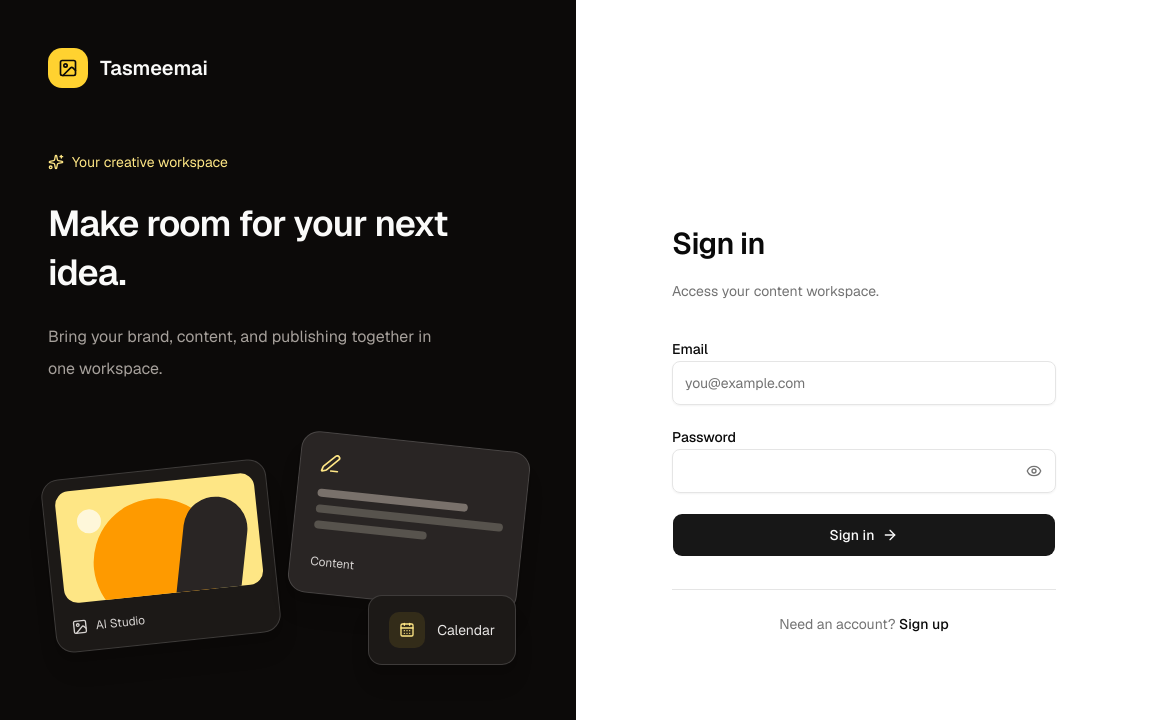
Test: auth page behavior › uses accessible password controls and authored failures in en
Type "person@example.com" into the field labelled "Email" at (864, 383), box [672, 361, 1056, 405]
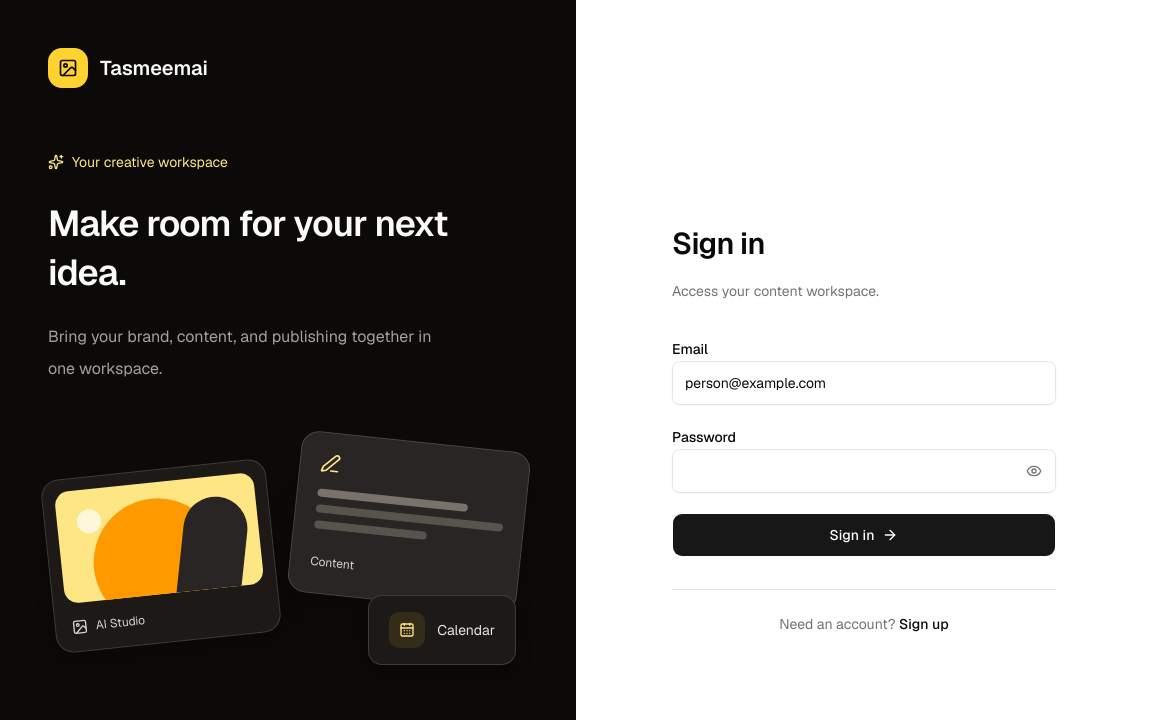
Type "a-test-password" into the password field labelled "Password" at (864, 471), box [672, 449, 1056, 493]
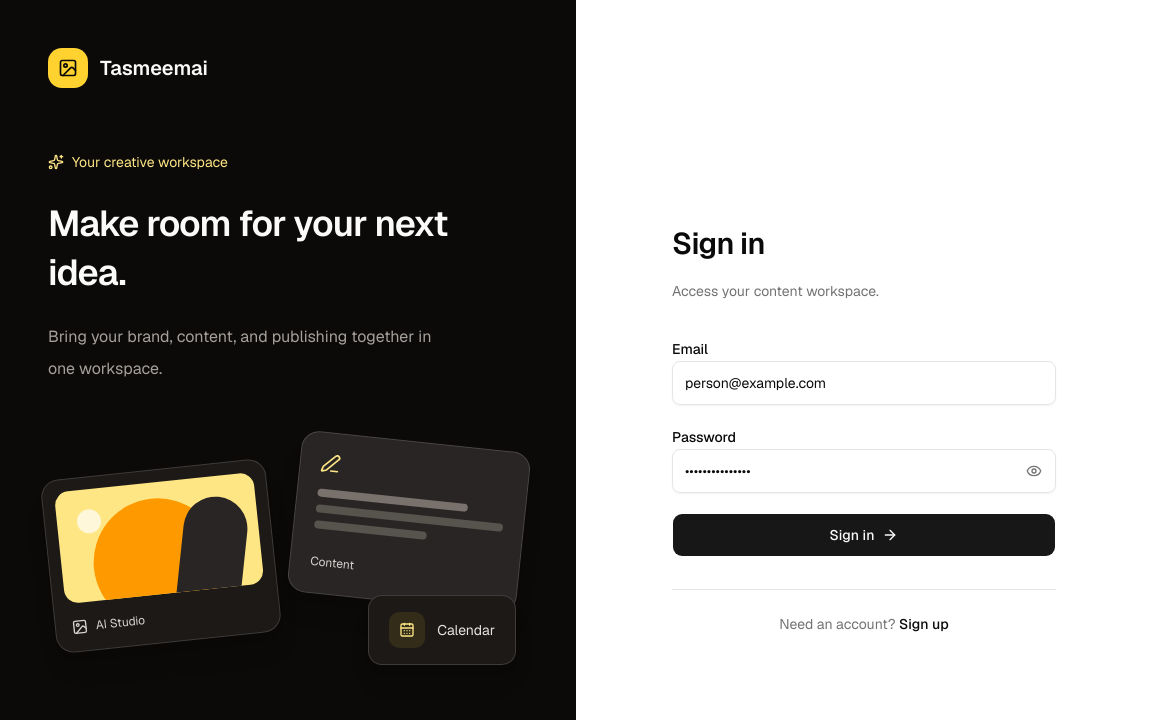
Click the button named "Show password" at (1034, 471), box [1018, 455, 1050, 487]
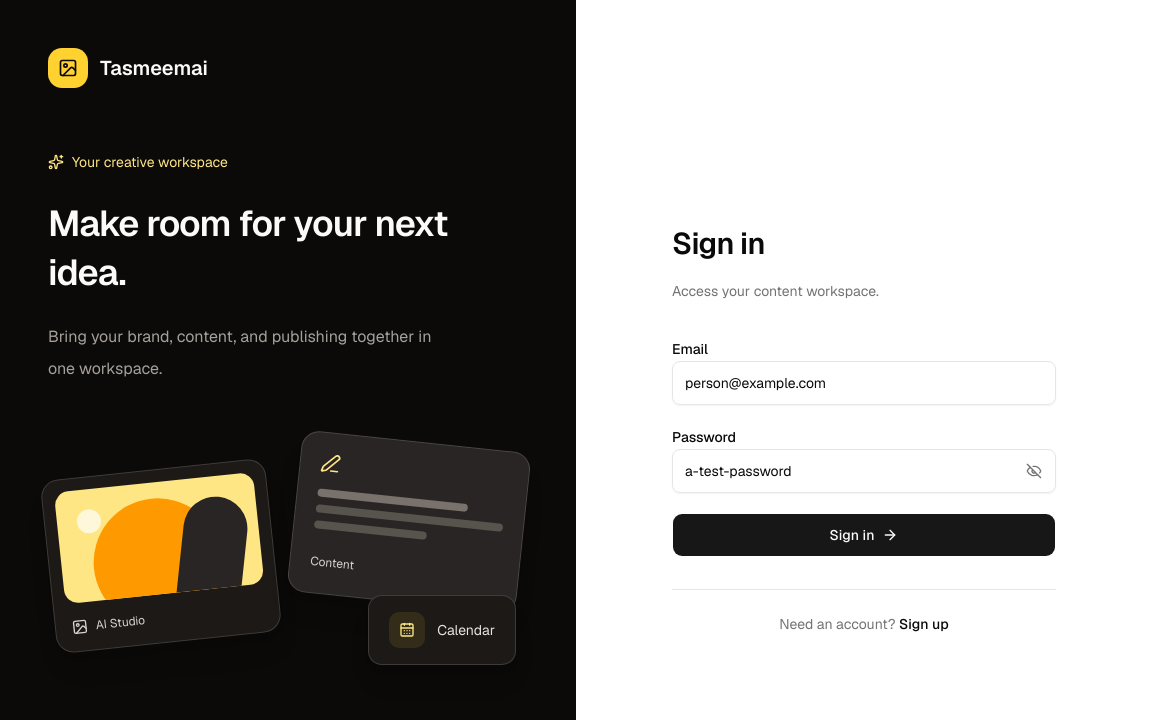
expect the field labelled "Password" shows its text: met, box [672, 449, 1056, 493]
Click the button named "Hide password" at (1034, 471), box [1018, 455, 1050, 487]
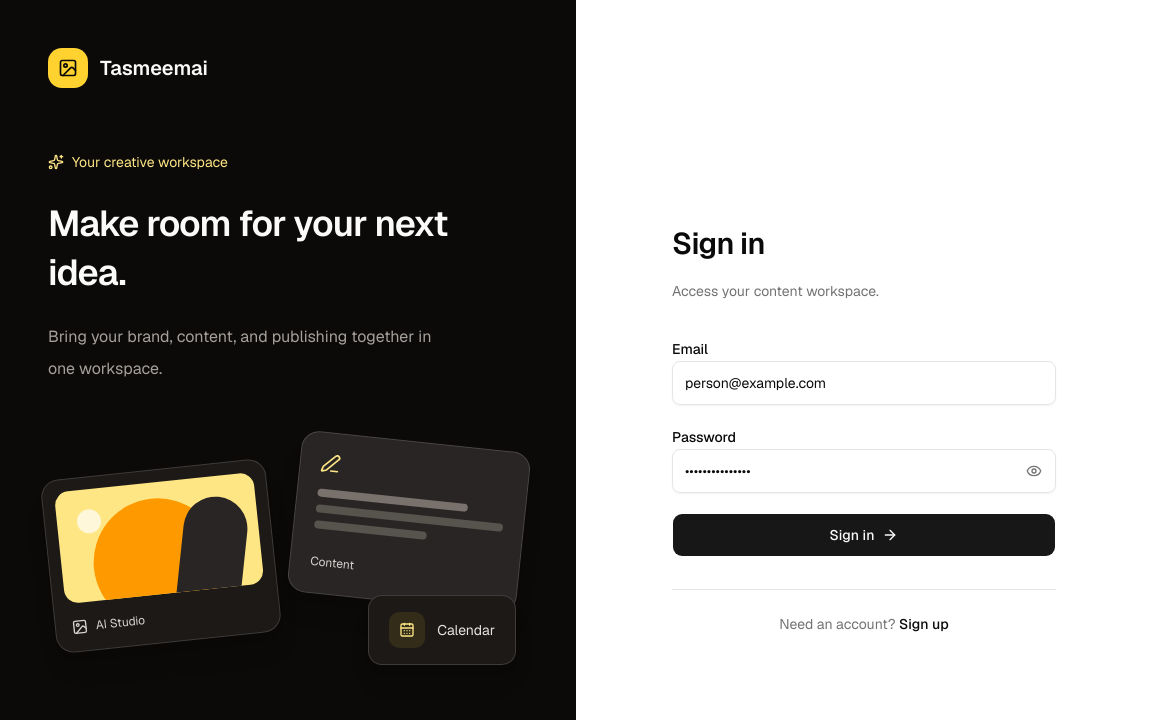
expect the password field labelled "Password" hides its text: met, box [672, 449, 1056, 493]
Click the button "Sign in" at (864, 535), box [672, 513, 1056, 557]
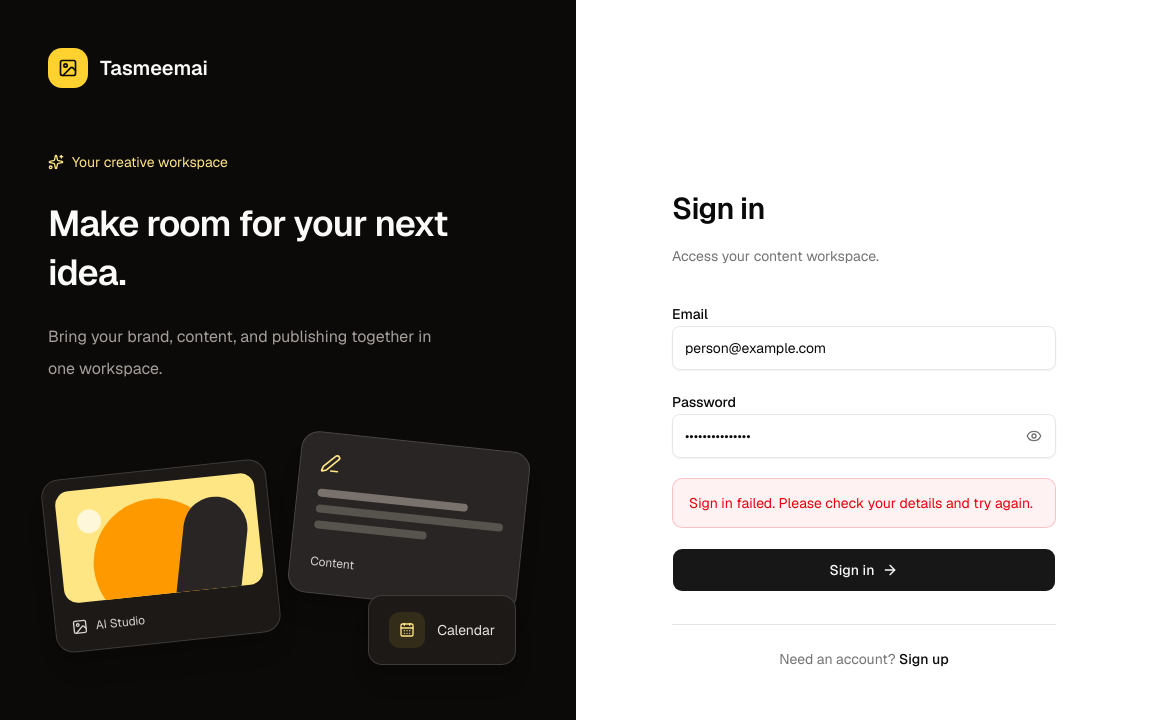
expect the message reads "Sign in failed. Please check your details and try again.": met, box [689, 494, 1033, 512]
